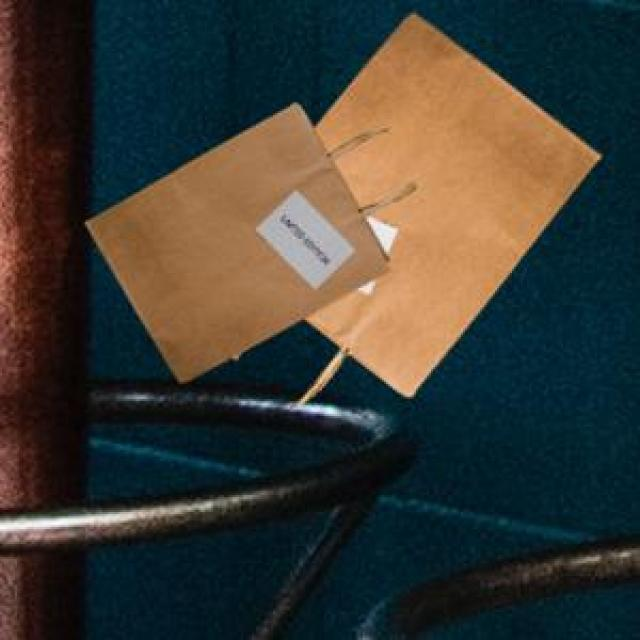paper: (290, 11, 595, 403), (81, 100, 412, 378)
